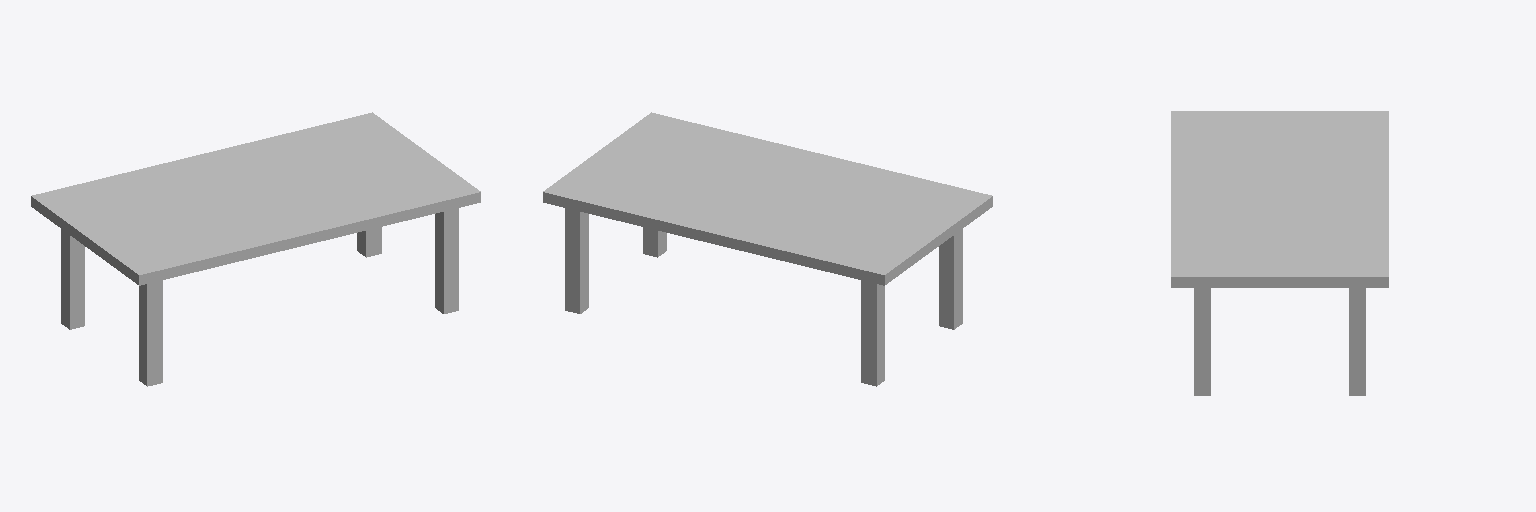
Rendered from Tall Table LOD1.obj.
3 views of the same model, side by side, from view 1: azimuth 30°, elevation 25°; view 2: azimuth 150°, elevation 25°; view 3: azimuth 270°, elevation 25° (orthographic).
Visible parts, largest first — view 1: Table.002_Cube.046, Leg.024_Cube.047, Leg.027_Cube.050, Leg.025_Cube.048, Leg.026_Cube.049; view 2: Table.002_Cube.046, Leg.025_Cube.048, Leg.026_Cube.049, Leg.024_Cube.047, Leg.027_Cube.050; view 3: Table.002_Cube.046, Leg.027_Cube.050, Leg.026_Cube.049.
Part boxes in pixels (x1,y1,x2,y2): Table.002_Cube.046: (31, 112, 480, 285); Leg.024_Cube.047: (139, 280, 162, 386); Leg.027_Cube.050: (435, 208, 458, 313); Leg.025_Cube.048: (61, 229, 84, 329); Leg.026_Cube.049: (357, 227, 381, 257); Table.002_Cube.046: (543, 112, 992, 285); Leg.025_Cube.048: (861, 280, 884, 386); Leg.026_Cube.049: (565, 208, 588, 313); Leg.024_Cube.047: (939, 229, 962, 329); Leg.027_Cube.050: (643, 227, 666, 257); Table.002_Cube.046: (1171, 111, 1388, 287); Leg.027_Cube.050: (1194, 288, 1210, 395); Leg.026_Cube.049: (1349, 288, 1365, 395).
Size of the model in its own units: 12.73 by 4.41 by 7.